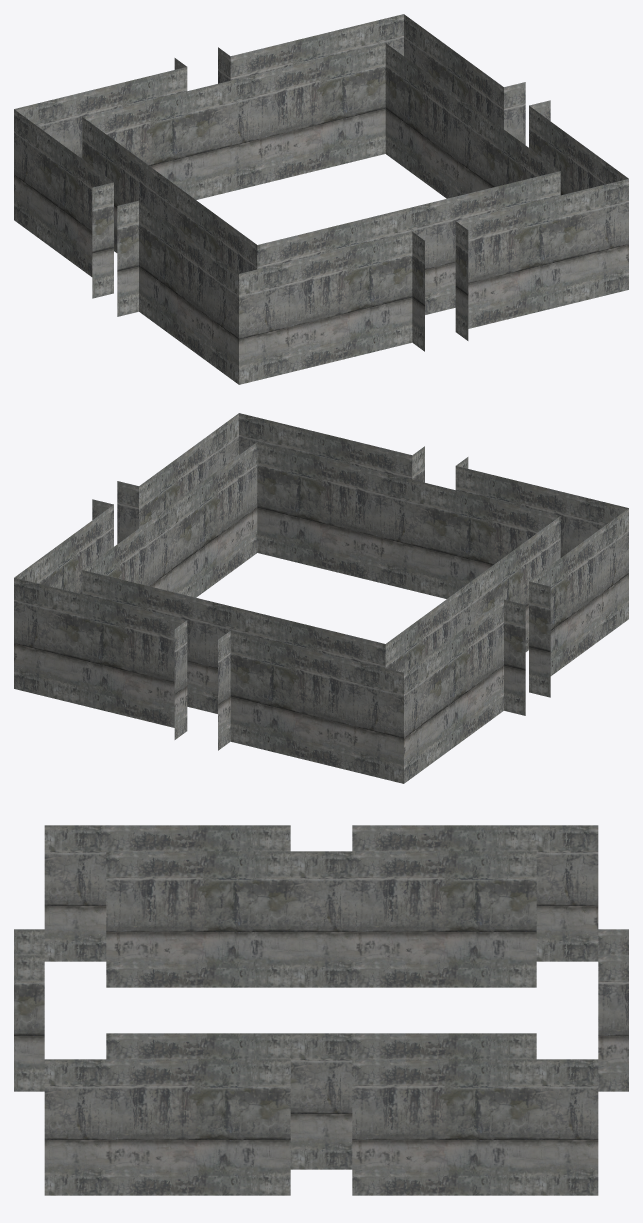
The model's file is north_east_south_west_none_3.obj.
3 renders of one model, top to bottom at view 1: azimuth 30°, elevation 25°; view 2: azimuth 150°, elevation 25°; view 3: azimuth 270°, elevation 25°, orthographic. The views are drawn at different scales.
Visible parts, largest first — view 1: Room; view 2: Room; view 3: Room.
Boxes of the visible parts, x1,y1,x2,y2 form: Room: [14, 14, 628, 384]; Room: [14, 413, 628, 783]; Room: [14, 825, 628, 1195].
Bounding box in the file's own units: 10 × 2.45 × 10.
1 material, 1 textured.
